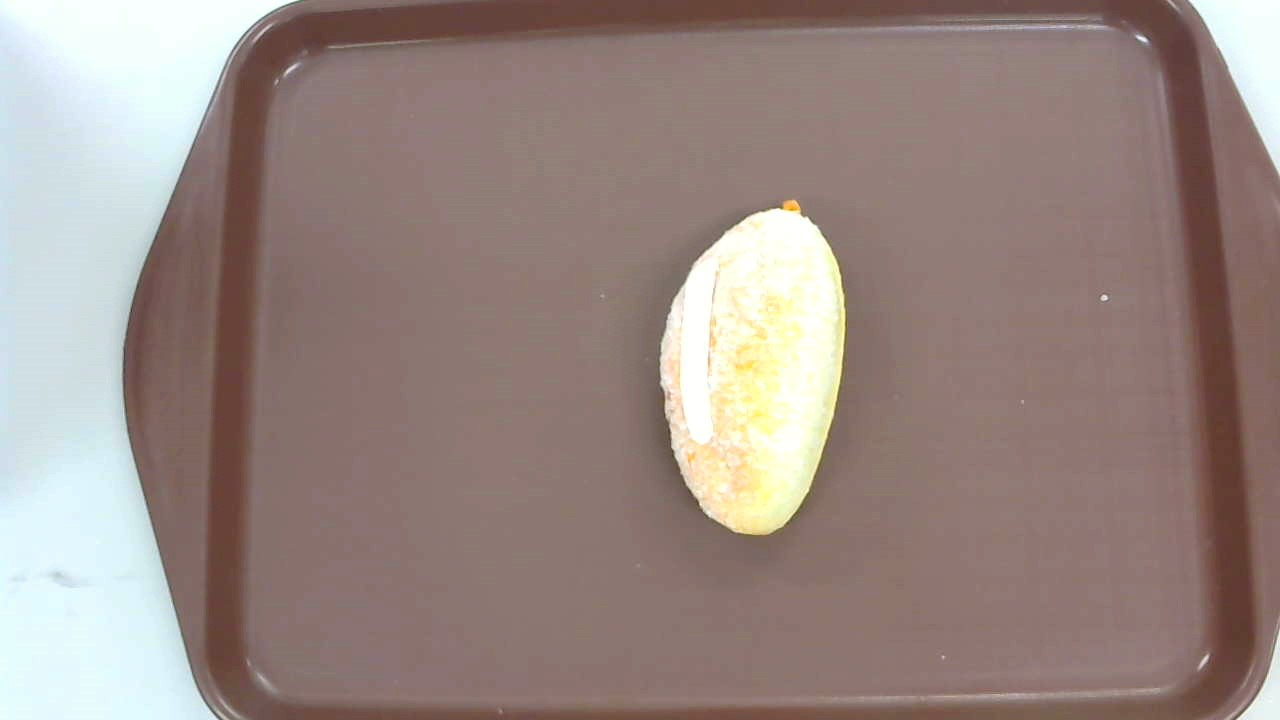coconut: (657, 200, 847, 540)
